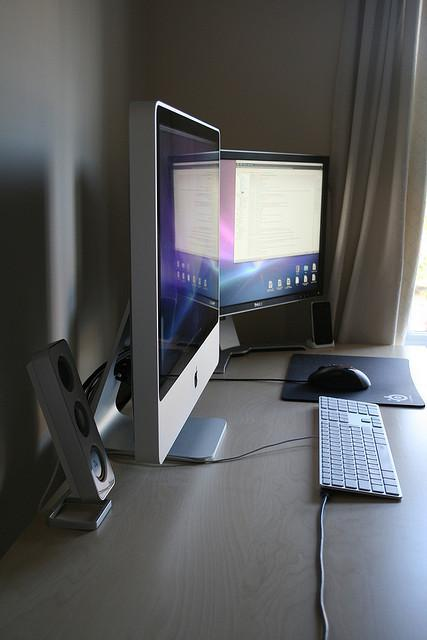tv: (124, 89, 222, 473), (216, 146, 327, 323)
